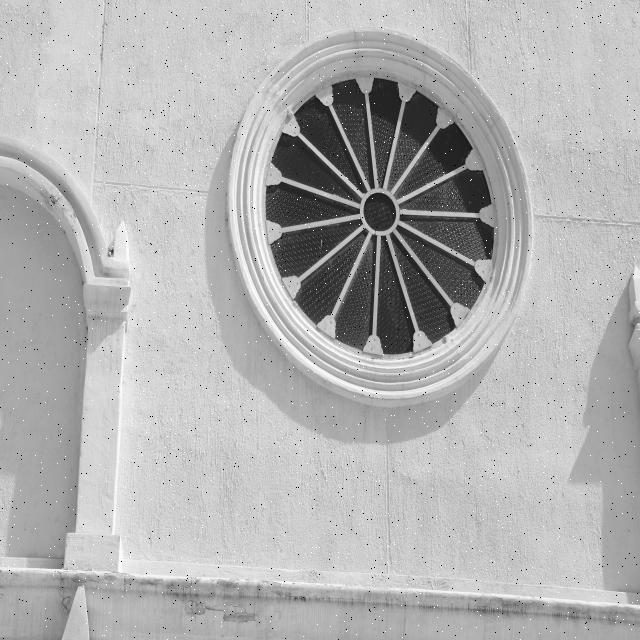SIMETRIA COLONIAL: (211, 17, 569, 448)
